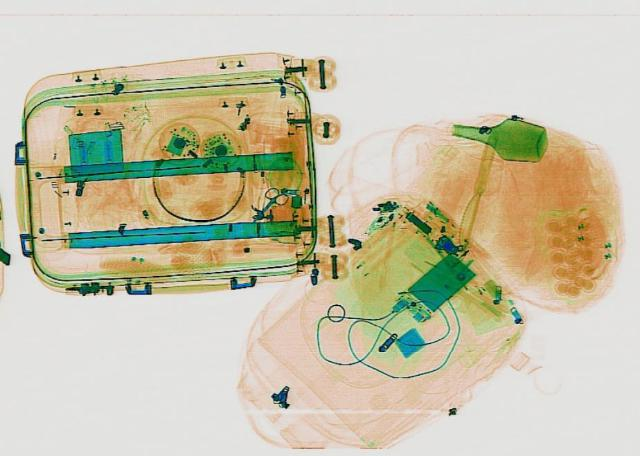Scissors: (240, 185, 292, 225)
